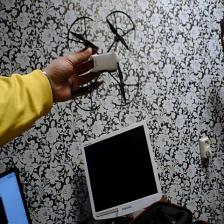drone: (66, 7, 144, 115)
